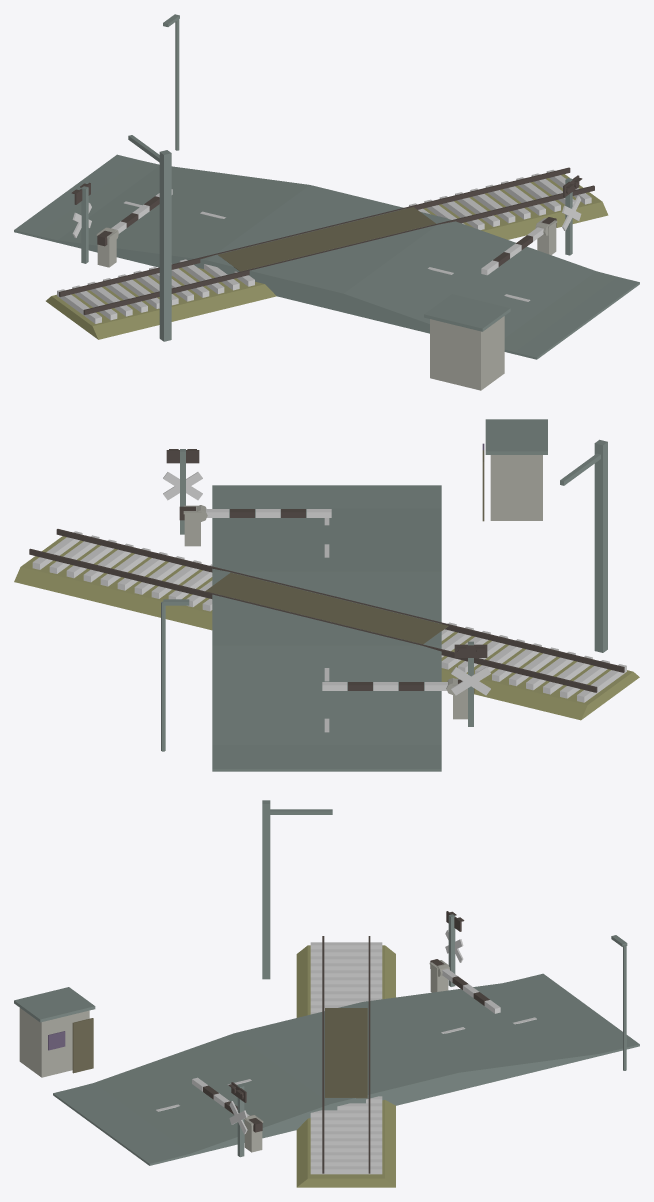
Rendered from SM_PasoNivel_60_v4_Catenaria_LOD0.fbx.
The picture shows the model from 3 angles, top to bottom: view 1: azimuth 30°, elevation 25°; view 2: azimuth 150°, elevation 25°; view 3: azimuth 270°, elevation 25°; orthographic projection. The views are drawn at different scales.
Visible parts, largest first — view 1: SM_paso_nivel_kit_v9_LOD0, Barrera_1, Barrera_2; view 2: SM_paso_nivel_kit_v9_LOD0, Barrera_1, Barrera_2; view 3: SM_paso_nivel_kit_v9_LOD0, Barrera_2, Barrera_1.
Part boxes in pixels (x1=…): SM_paso_nivel_kit_v9_LOD0: x1=14, y1=14, x2=639, y2=390; Barrera_1: x1=481, y1=217, x2=556, y2=275; Barrera_2: x1=97, y1=189, x2=172, y2=246; SM_paso_nivel_kit_v9_LOD0: x1=14, y1=419, x2=639, y2=771; Barrera_1: x1=179, y1=505, x2=331, y2=521; Barrera_2: x1=322, y1=678, x2=474, y2=694; SM_paso_nivel_kit_v9_LOD0: x1=14, y1=800, x2=639, y2=1187; Barrera_2: x1=430, y1=959, x2=500, y2=1013; Barrera_1: x1=192, y1=1077, x2=262, y2=1132.
Size of the model in its own units: 20 by 7 by 22.66.
